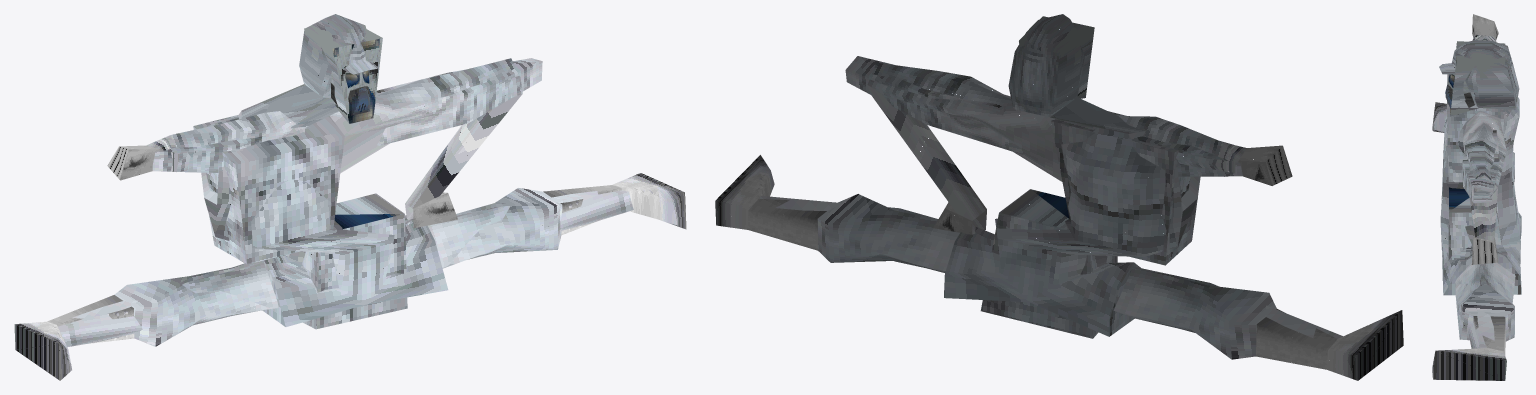
File: CsnowguardZ.obj
The picture shows the model from 3 angles, left to right: view 1: azimuth 30°, elevation 25°; view 2: azimuth 150°, elevation 25°; view 3: azimuth 270°, elevation 25°; orthographic projection. The views are drawn at different scales.
Size of the model in its own units: 2167 by 944 by 332.
Materials: 19 (19 with a texture image).
